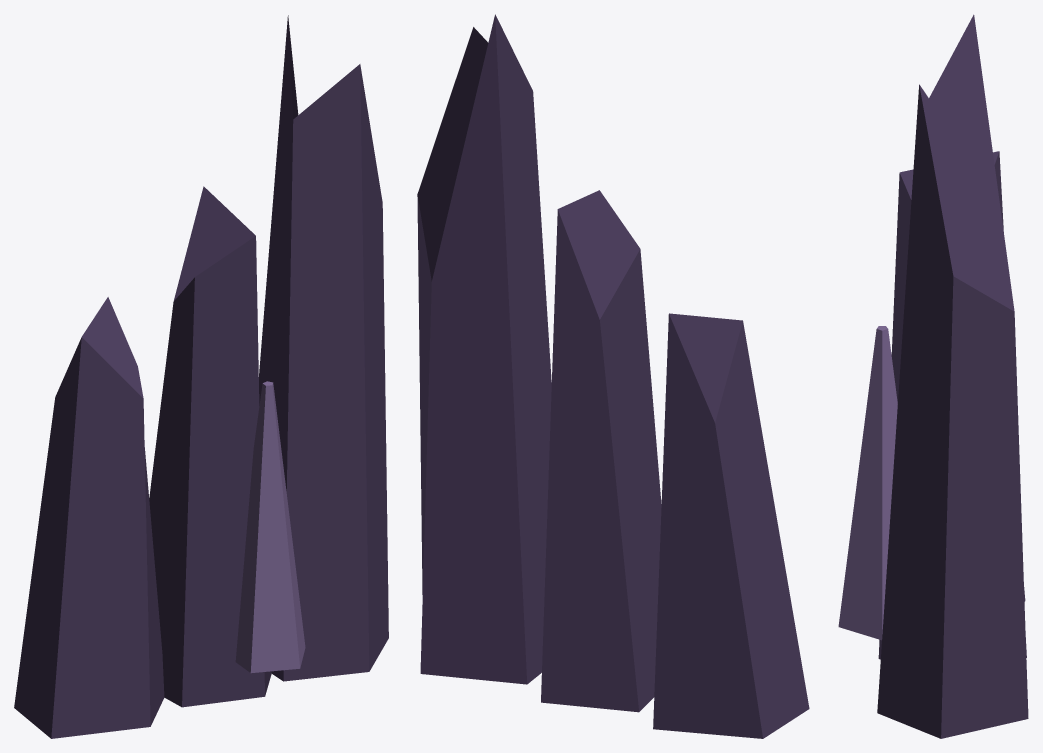
The model's file is map-boundaries-v5__dragon_06.glb.
3 renders of one model, left to right at view 1: azimuth 30°, elevation 25°; view 2: azimuth 150°, elevation 25°; view 3: azimuth 270°, elevation 25°, orthographic. The views are drawn at different scales.
Parts seen in each view (by area): view 1: dragon_06; view 2: dragon_06; view 3: dragon_06.
Part boxes in pixels (x1,y1,x2,y2): dragon_06: [14, 15, 388, 738]; dragon_06: [417, 14, 809, 738]; dragon_06: [838, 14, 1028, 738].
Bounding box in the file's own units: 1.44 × 2.44 × 0.6173.
